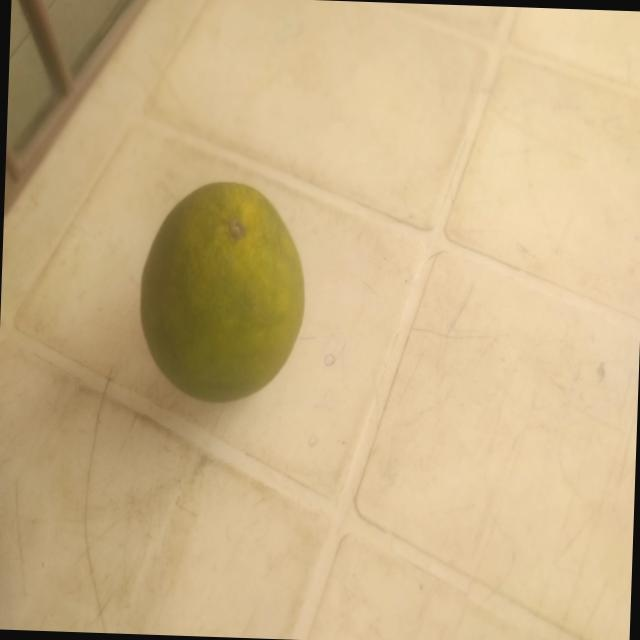agrume: (101, 157, 330, 439)
